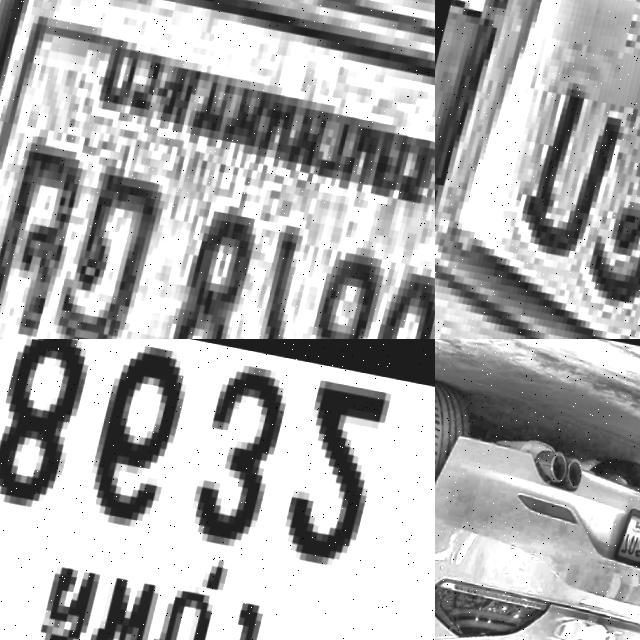license-plate: (0, 0, 435, 339), (0, 339, 435, 640), (435, 0, 640, 339), (613, 494, 640, 576)
